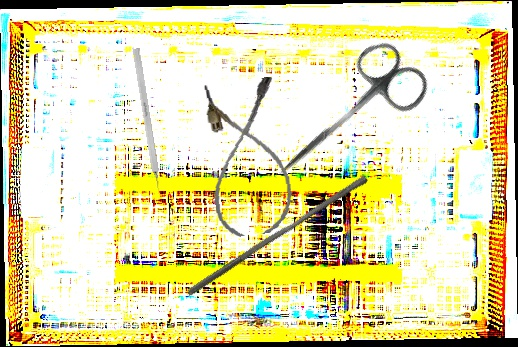Cannula: (200, 75, 297, 240)
Hook Surgical: (132, 47, 164, 202)
Iris Scissors: (255, 30, 437, 206)
Pusher: (184, 168, 370, 304)
